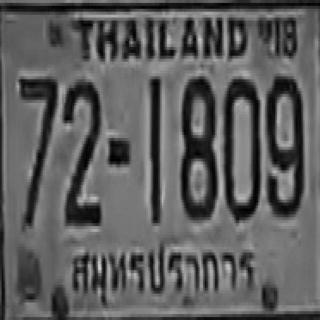N00: (222, 76, 258, 220)
N01: (148, 73, 160, 223)
N02: (62, 76, 100, 223)
N07: (19, 72, 57, 225)
N08: (179, 73, 215, 217)
N09: (265, 73, 303, 214)
P57: (66, 238, 259, 302)
